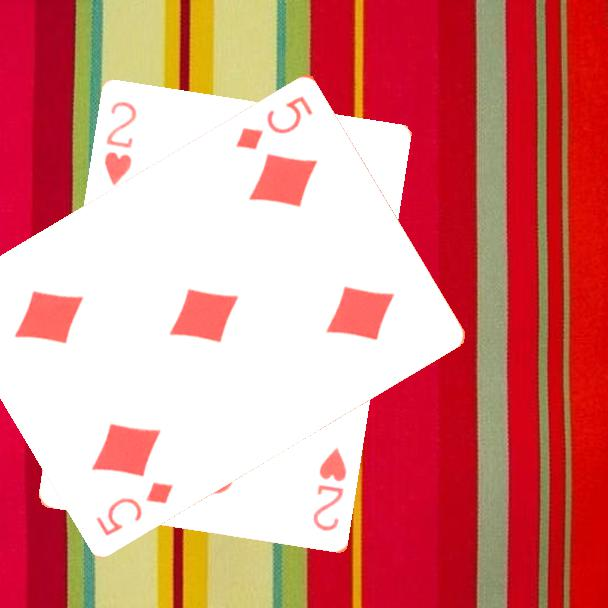d05: (92, 477, 177, 538), (232, 91, 316, 152)
h02: (309, 444, 350, 535), (101, 98, 141, 189)
